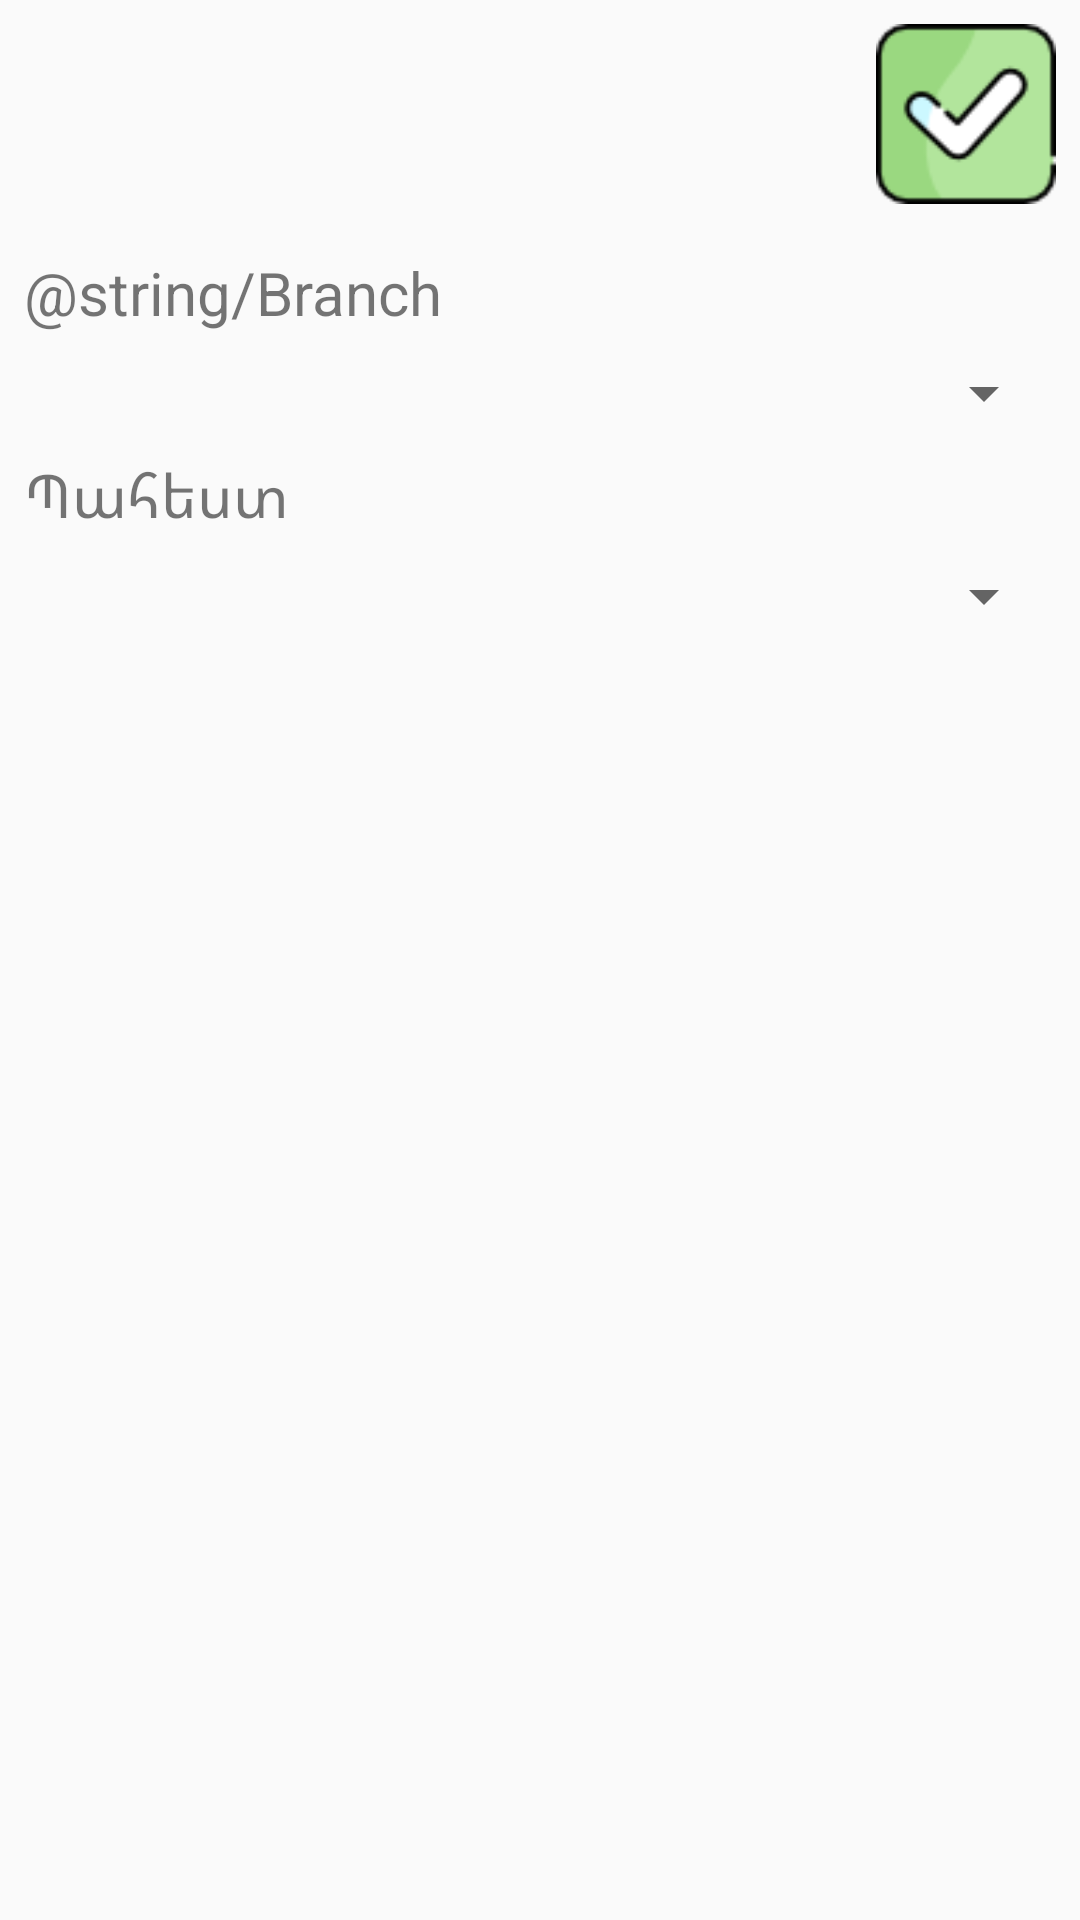

Where to tap for icons on this 1080x1920 app screen, as (x,y):
done: (966,114)
